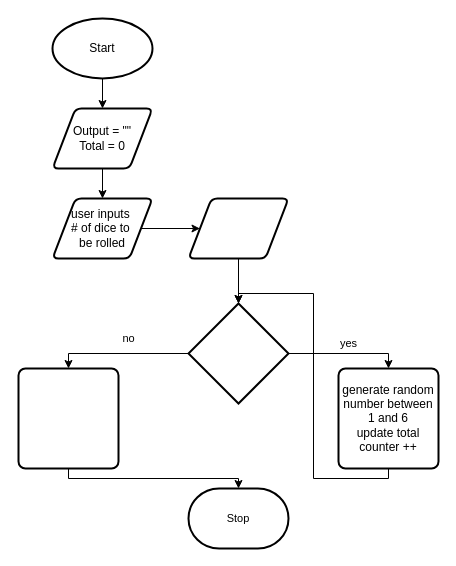
Image size: 456x566. Some labels were removed from this diagram. Here are the shapes that lost their labels. From the top down, the centre of each, then its label:
At (x=238, y=228): "Counter = 0".
At (x=238, y=353): "Counter < Input".
At (x=68, y=418): "Output images Output Total".
